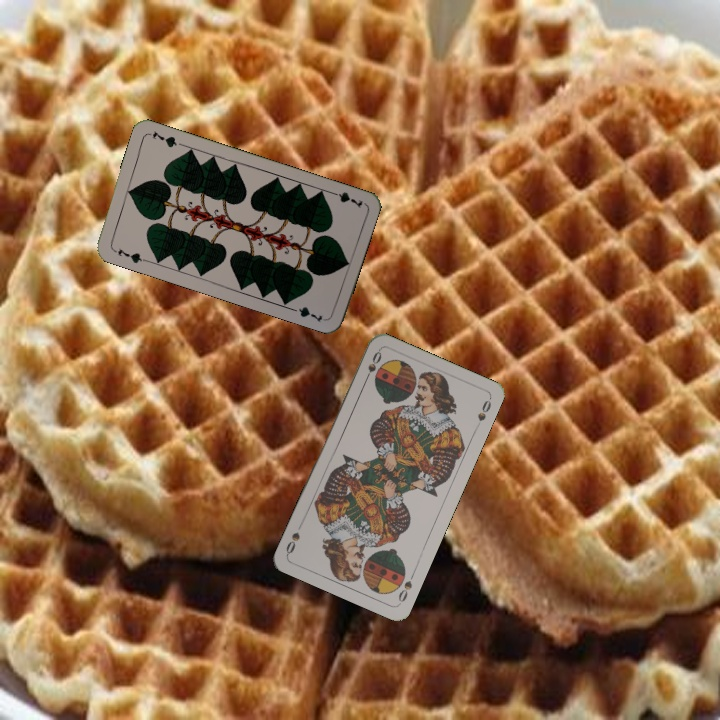G7: (326, 187, 366, 211), (109, 244, 148, 266)
SO: (360, 347, 384, 385), (394, 568, 418, 606)
